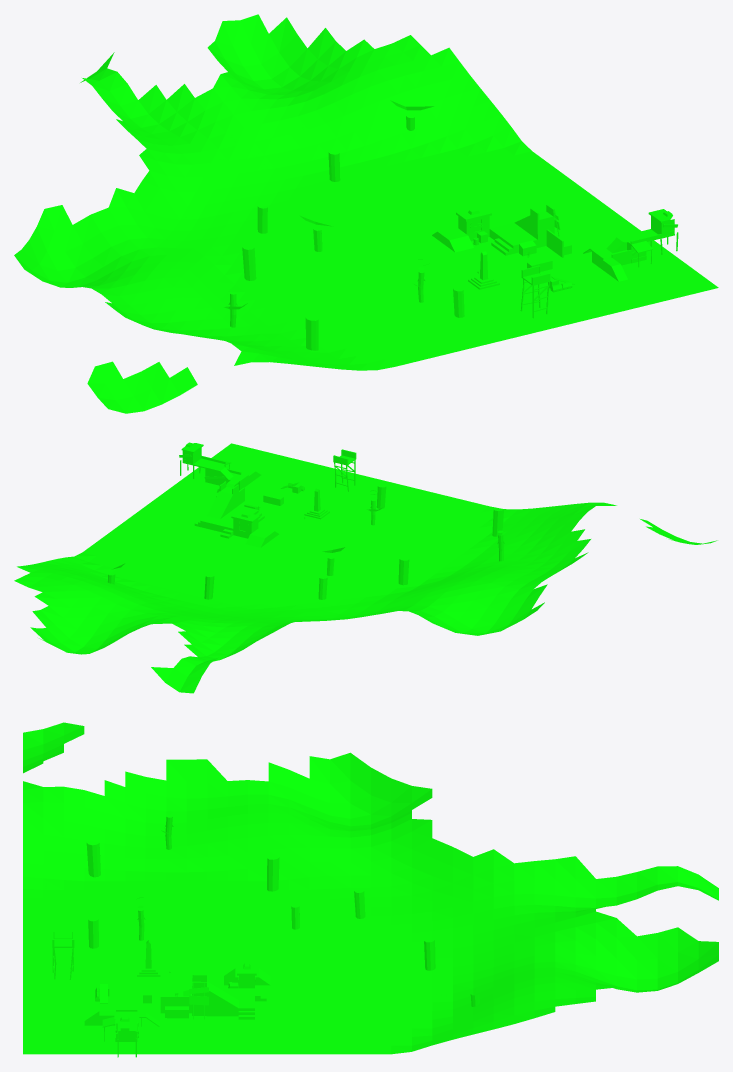
File: navmesh_source.glb
The picture shows the model from 3 angles, top to bottom: view 1: azimuth 30°, elevation 25°; view 2: azimuth 150°, elevation 25°; view 3: azimuth 270°, elevation 25°; orthographic projection. The views are drawn at different scales.
Size of the model in its own units: 650 by 45.18 by 650.
